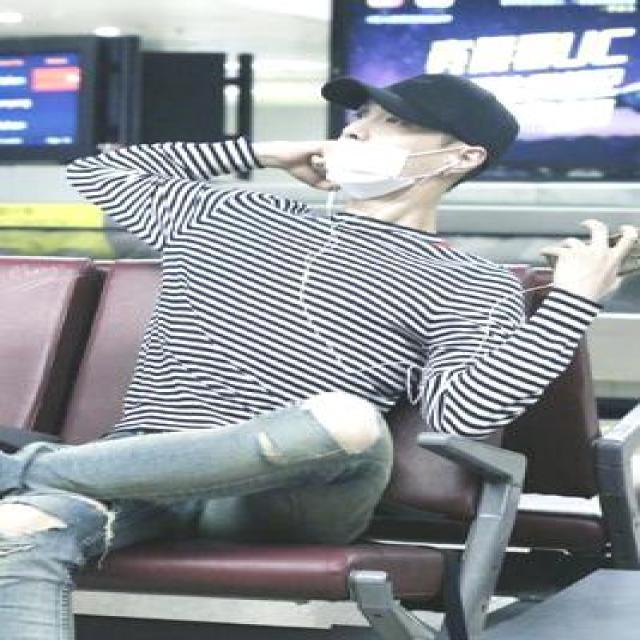hairnet: (324, 76, 496, 204)
